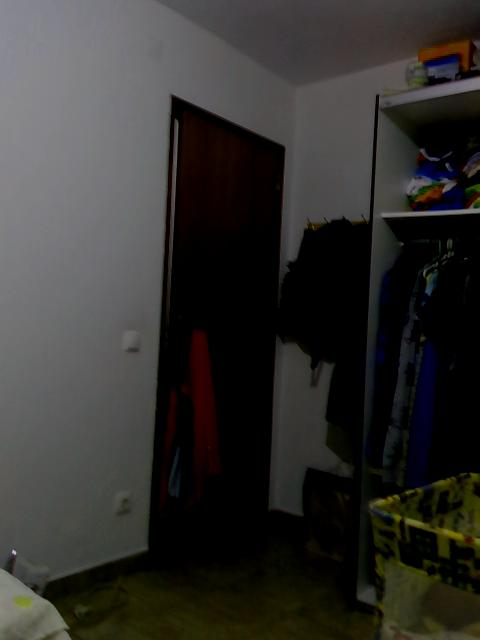closed_door: (147, 92, 283, 566)
